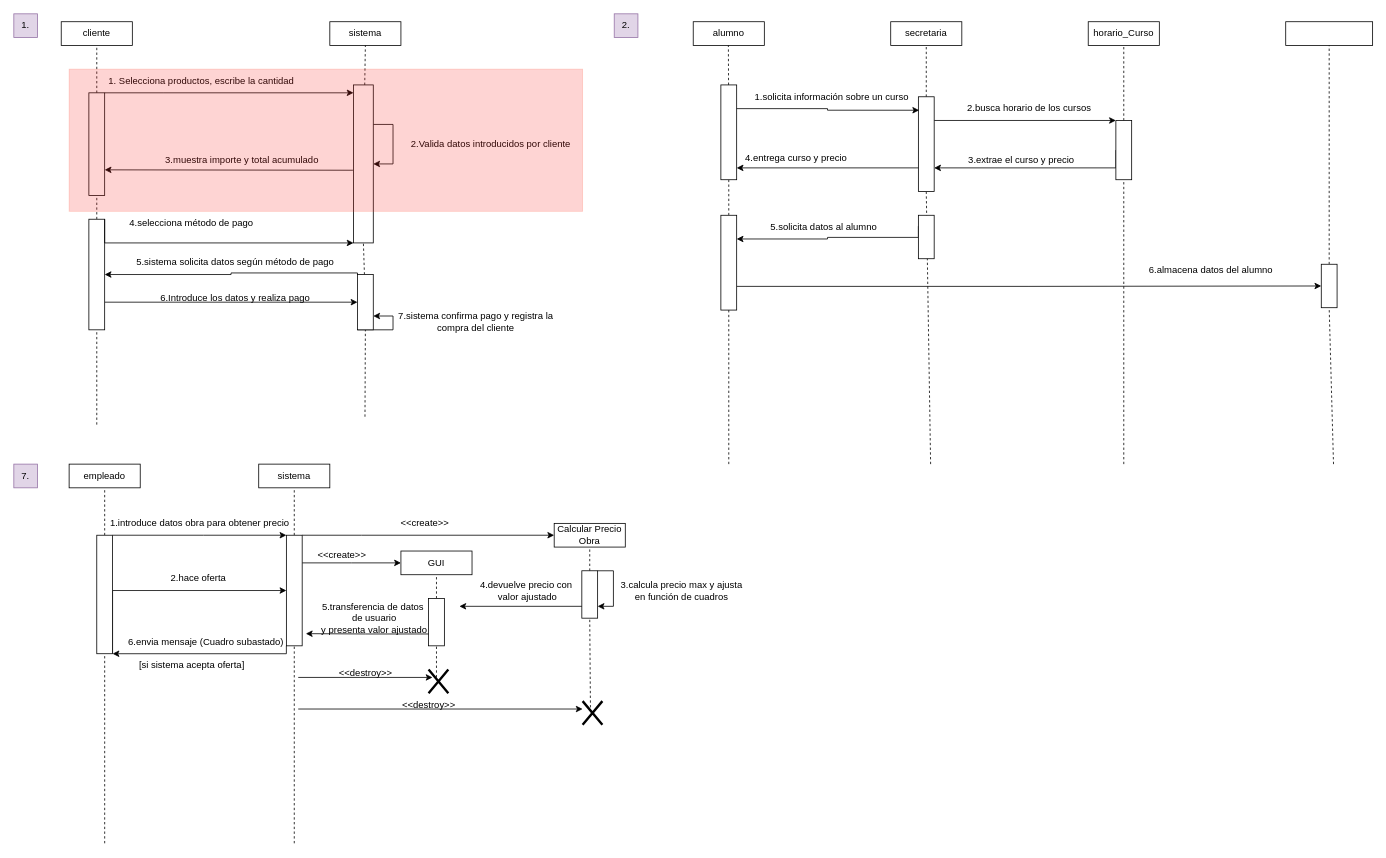
Some shapes in this 1386 by 858 pixel diagram are drawn without their labels. The shapes that lost their labels are listed below. From the top down, each one's centre as x and y in pixels, then its label:
At point (1329, 33): "registro_Consultas".
At point (325, 139): "[hasta que cliente indique fin de compra]".
